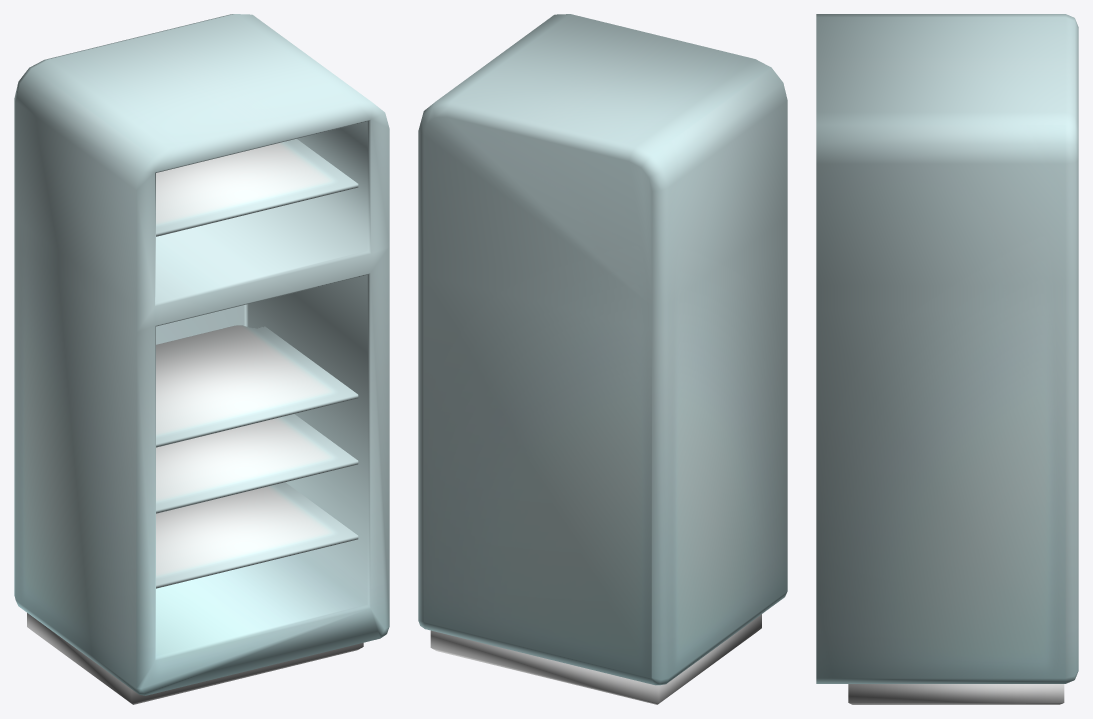
Rendered from Fridge.fbx.
3 views of the same model, side by side, from view 1: azimuth 30°, elevation 25°; view 2: azimuth 150°, elevation 25°; view 3: azimuth 270°, elevation 25° (orthographic). The views are drawn at different scales.
Visible parts, largest first — view 1: Fridge; view 2: Fridge; view 3: Fridge.
Part boxes in pixels (box(x1,y1,x2,y2)): Fridge: box(14, 14, 389, 704); Fridge: box(418, 14, 787, 704); Fridge: box(816, 14, 1078, 704).
Size of the model in its own units: 104 by 222 by 90.56.
